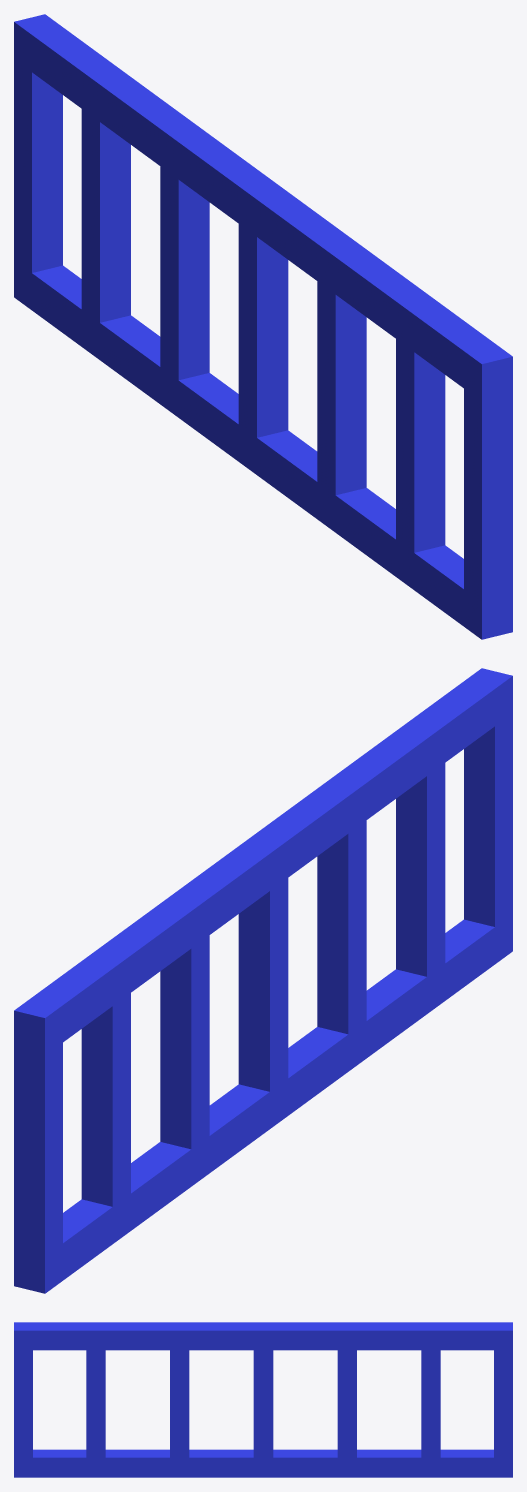
The model's file is Railing.FBX.
3 renders of one model, top to bottom at view 1: azimuth 30°, elevation 25°; view 2: azimuth 150°, elevation 25°; view 3: azimuth 270°, elevation 25°, orthographic. The views are drawn at different scales.
Visible parts, largest first — view 1: Railing; view 2: Railing; view 3: Railing.
Boxes of the visible parts, x1,y1,x2,y2 form: Railing: [14, 14, 512, 639]; Railing: [14, 668, 512, 1293]; Railing: [14, 1322, 512, 1477].
Size of the model in its own units: 0.1937 by 1.64 by 5.04.
